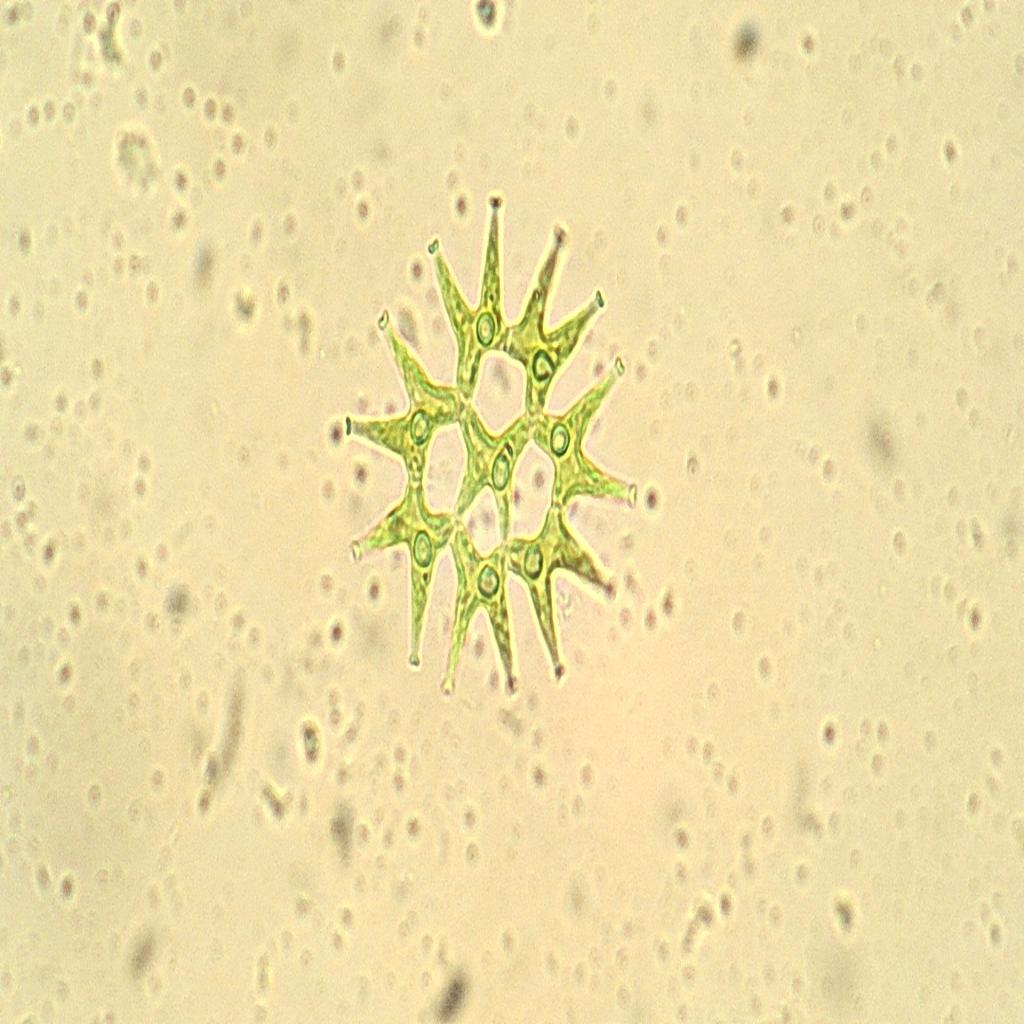Pediastrum_1T: (338, 182, 650, 697)
